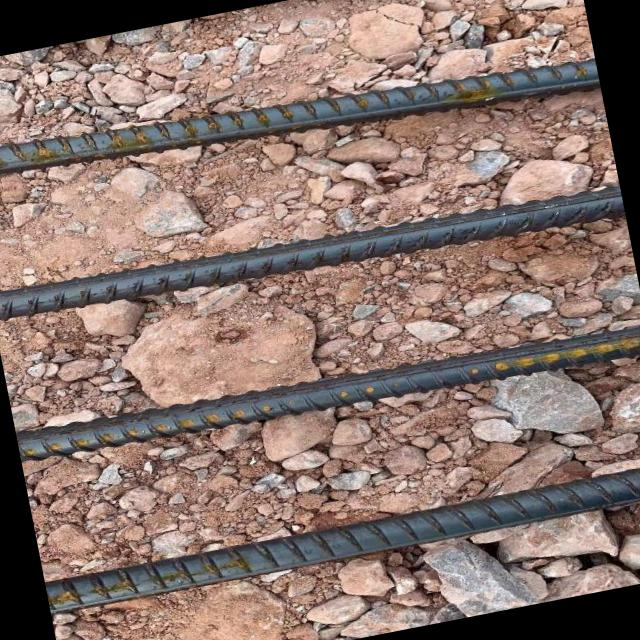ribbed bar: (0, 28, 600, 210), (15, 308, 640, 476), (0, 170, 624, 338), (45, 460, 640, 617)
